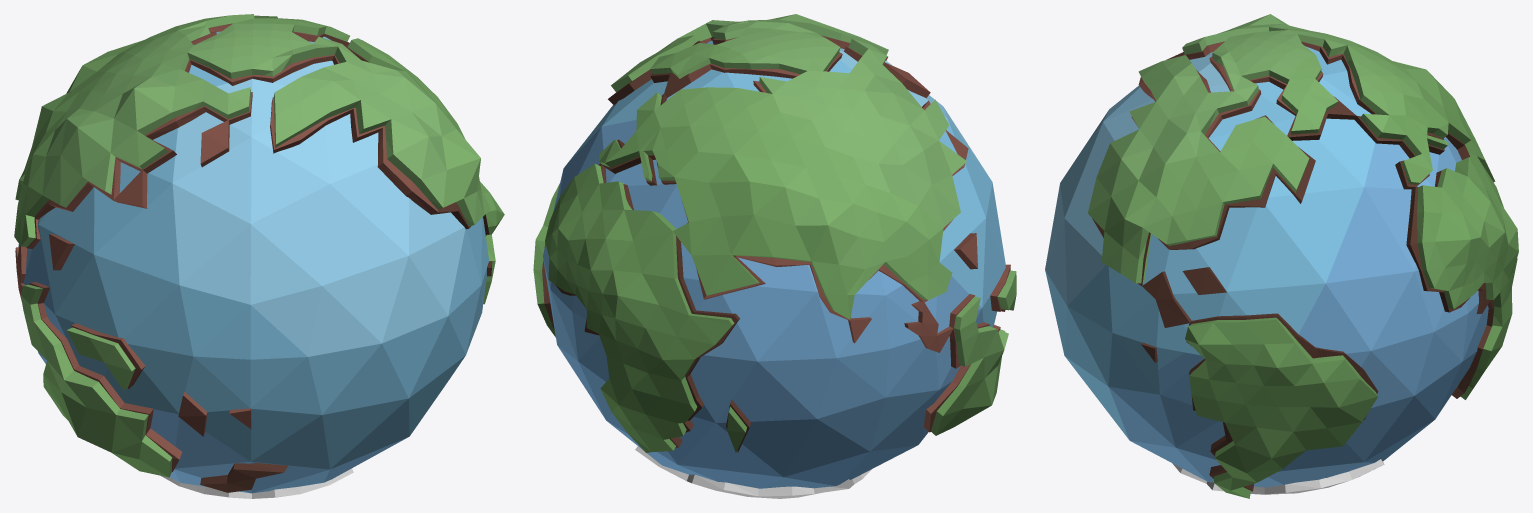
File: earth.glb
3 renders of one model, left to right at view 1: azimuth 30°, elevation 25°; view 2: azimuth 150°, elevation 25°; view 3: azimuth 270°, elevation 25°, orthographic. The views are drawn at different scales.
Parts seen in each view (by area): view 1: globe, land, Earth; view 2: land, globe, Earth; view 3: globe, land, Earth.
Boxes of the visible parts, left/top/right/bottom form: globe: left=18, top=31, right=488, bottom=493; land: left=14, top=14, right=504, bottom=498; Earth: left=15, top=23, right=492, bottom=492; land: left=533, top=14, right=1016, bottom=498; globe: left=543, top=40, right=1005, bottom=488; Earth: left=542, top=35, right=1010, bottom=451; globe: left=1045, top=46, right=1488, bottom=487; land: left=1088, top=14, right=1518, bottom=498; Earth: left=1092, top=41, right=1494, bottom=491.
Bounding box in the file's own units: 1.94 × 1.87 × 1.89.
Materials: 1 (1 with a texture image).
